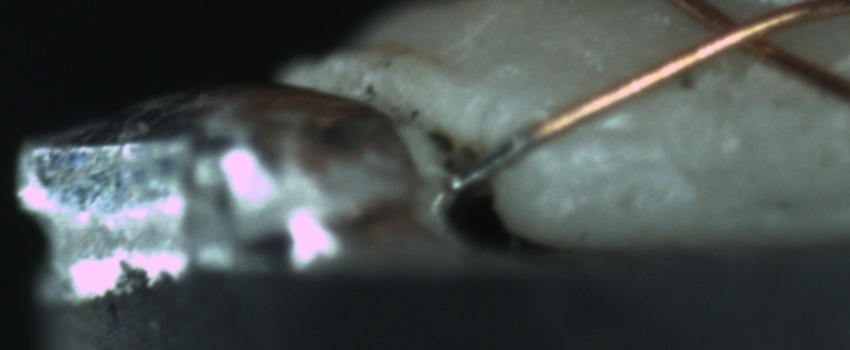CL: (676, 1, 803, 65)
DL: (542, 108, 664, 168)
TS: (452, 132, 534, 193)
